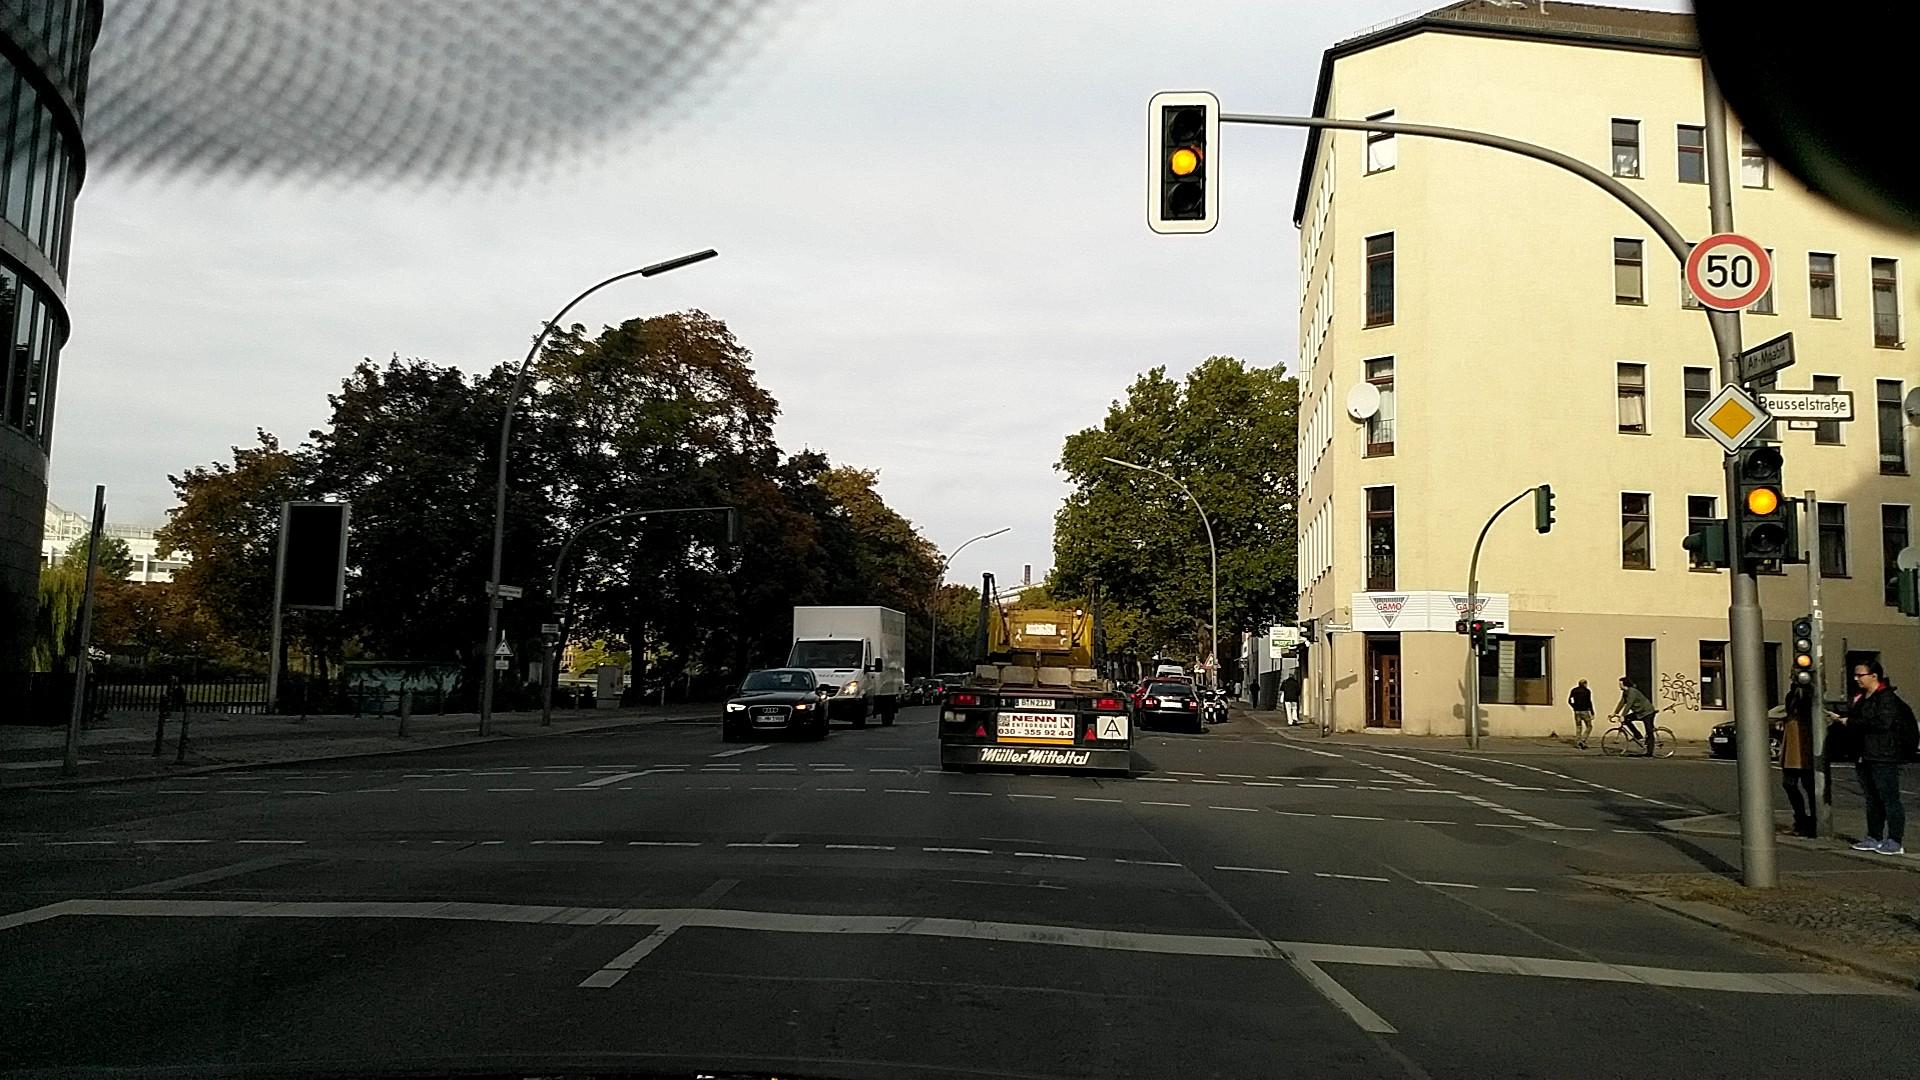Human face: (1853, 664, 1879, 689), (1618, 678, 1630, 691)
Vehicle registration plate: (1009, 698, 1057, 710), (755, 715, 784, 722), (1159, 701, 1183, 708), (1710, 738, 1728, 744)
